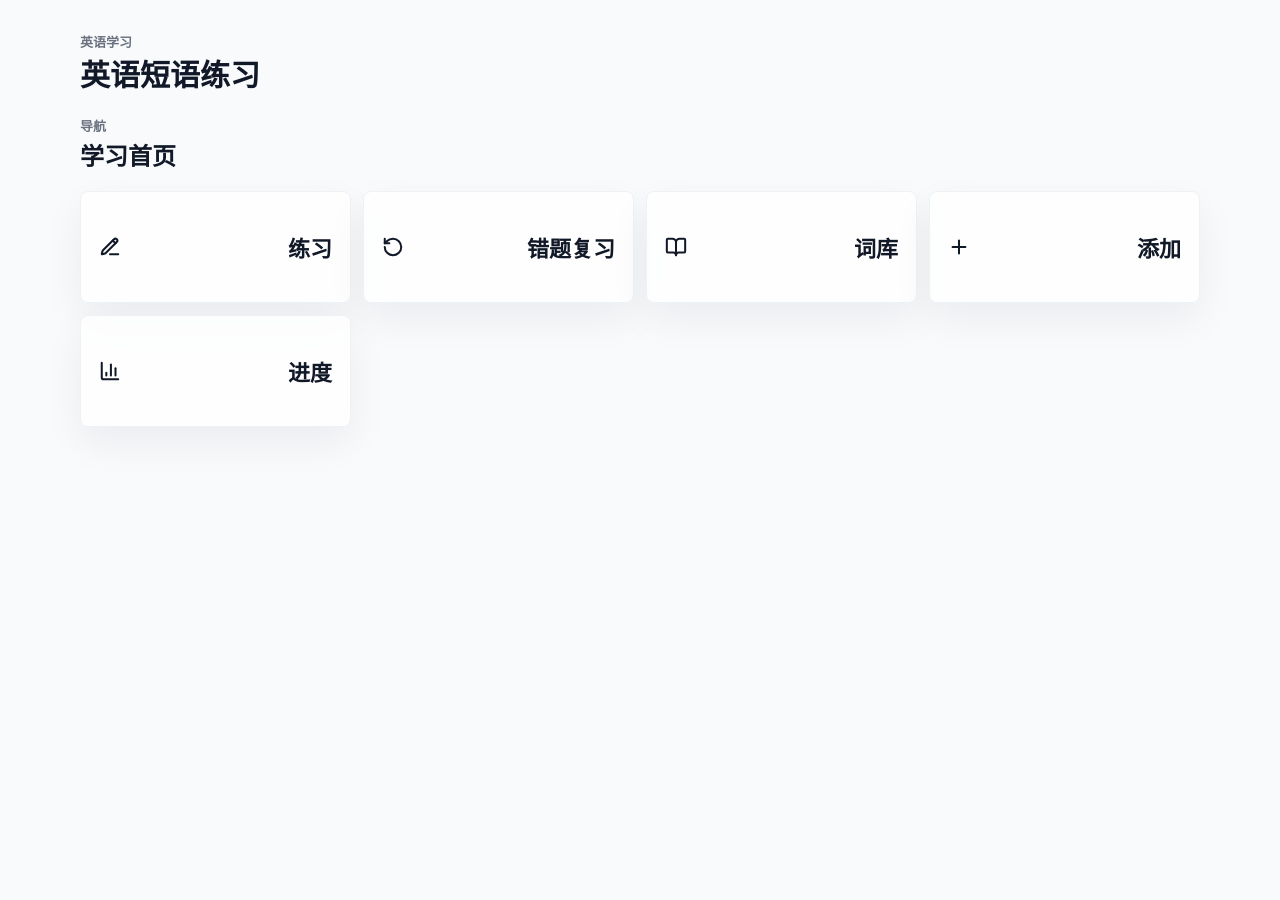
it: App › keeps practice filters compact until the learner adjusts them
Click the button "练习" at point(310, 249), box left=80, top=191, right=351, bottom=303
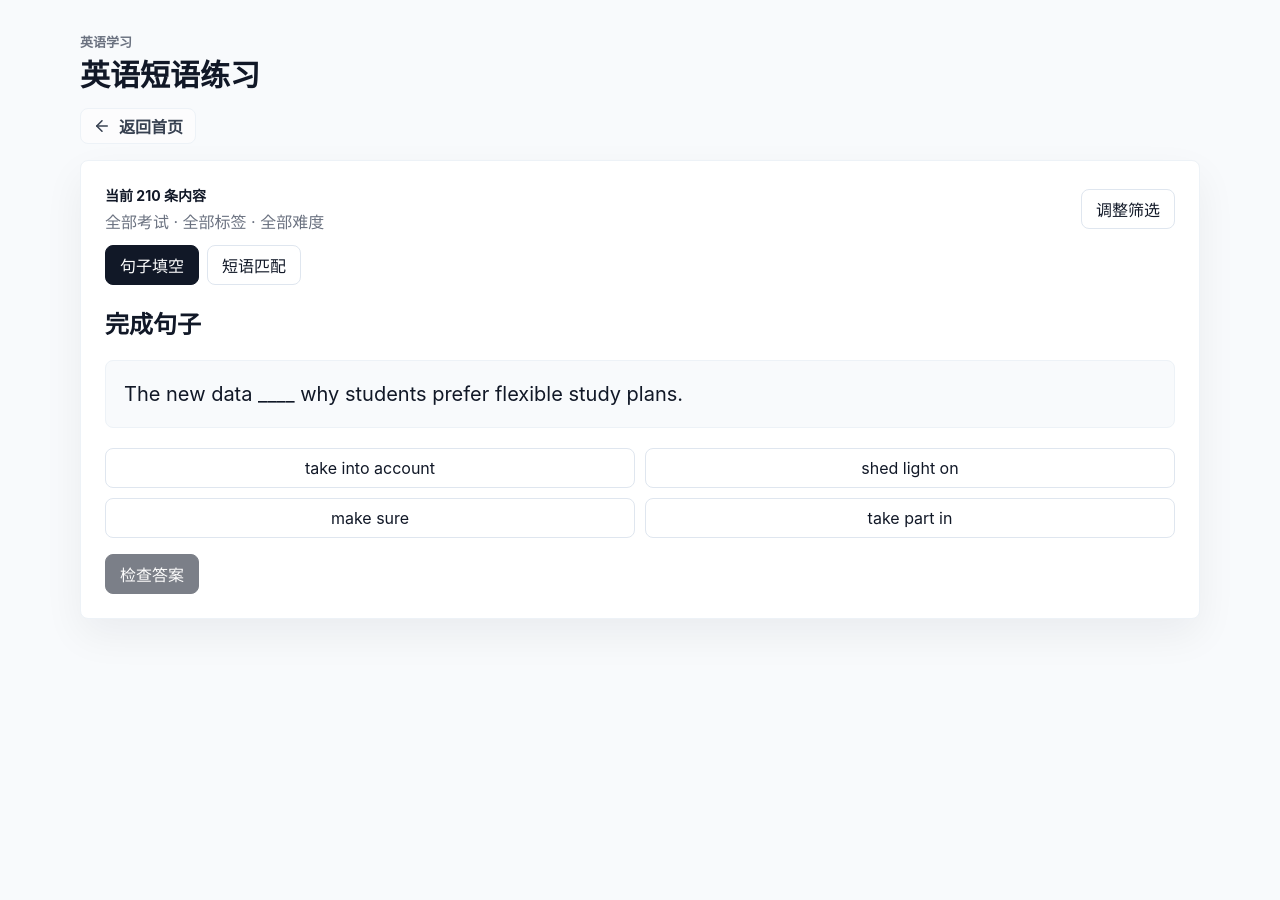
Now the element named "练习设置" is shown, box left=105, top=185, right=1175, bottom=233
Now the button "调整筛选" is shown
Click the button "调整筛选" at point(1128, 209), box left=1081, top=189, right=1175, bottom=229
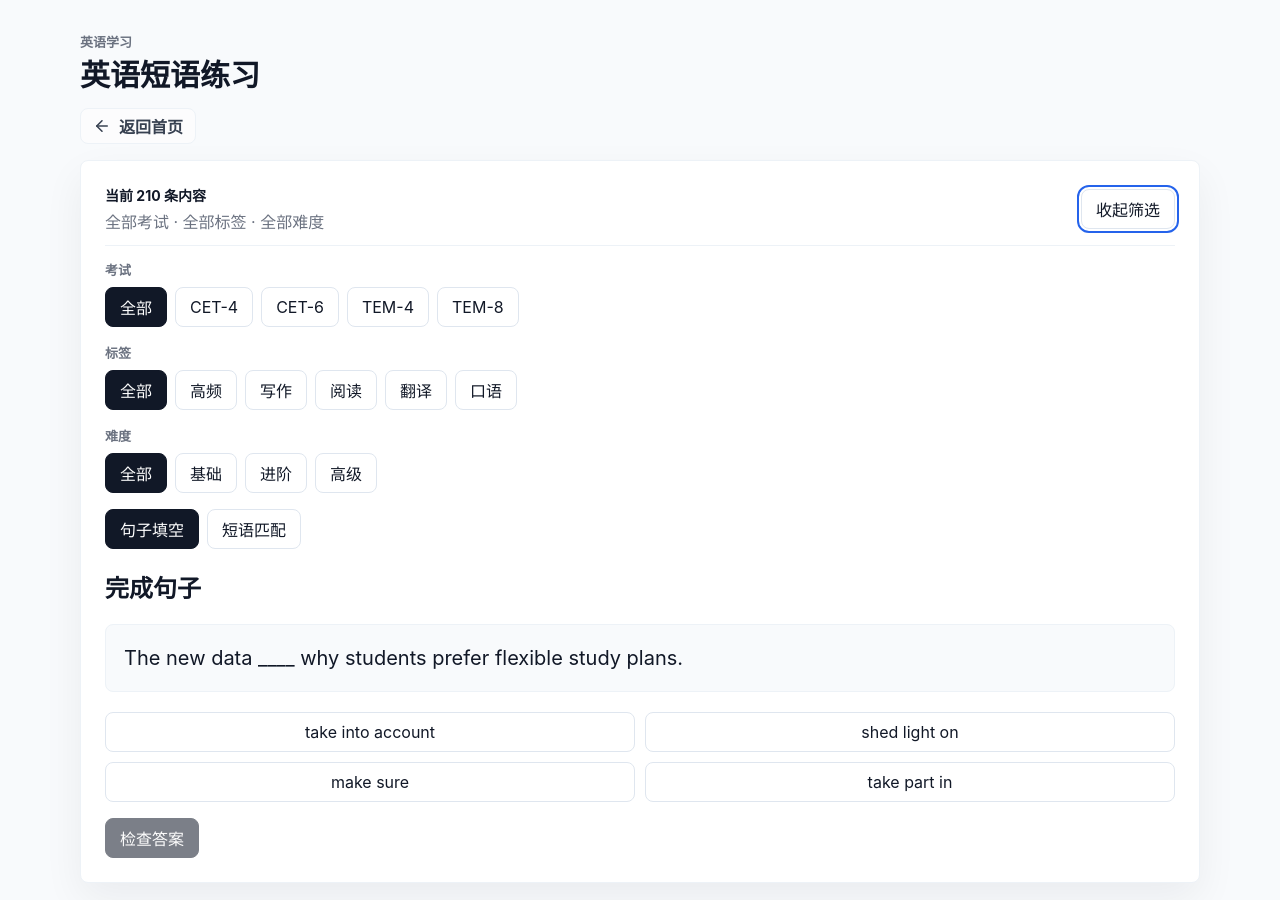
Now the element named "考试筛选" is shown, box left=105, top=287, right=519, bottom=327
Now the element named "练习标签筛选" is shown, box left=105, top=370, right=517, bottom=410
Now the element named "练习难度筛选" is shown, box left=105, top=453, right=377, bottom=493
